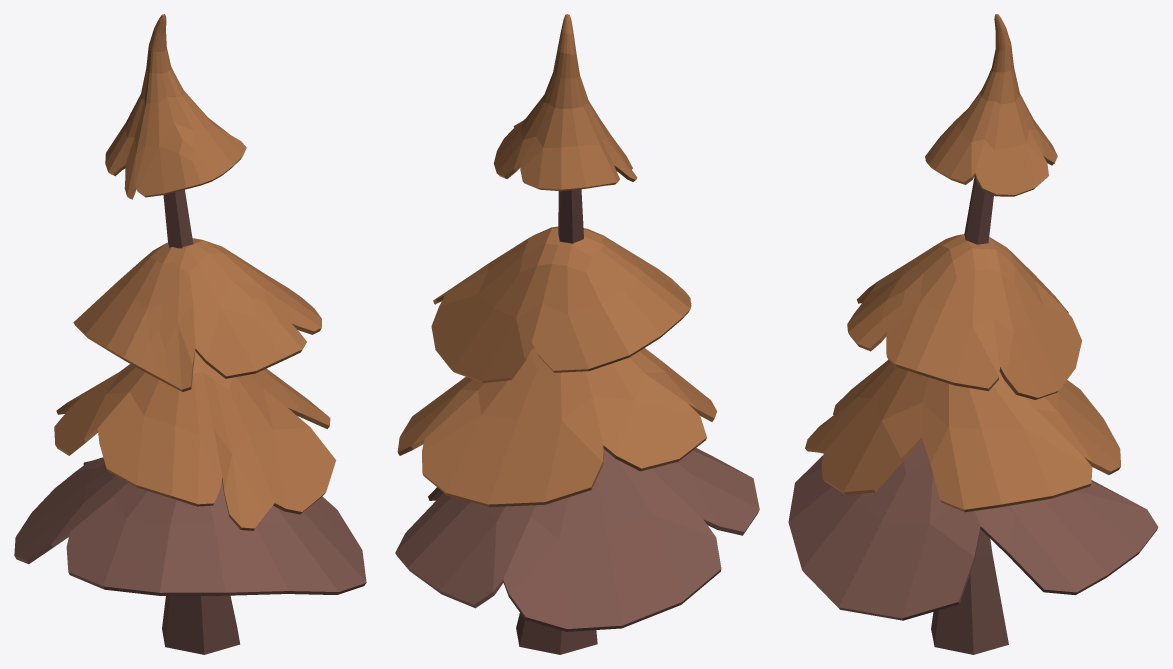
The model's file is PineTree_Autumn_2.gltf.
3 views of the same model, side by side, from view 1: azimuth 30°, elevation 25°; view 2: azimuth 150°, elevation 25°; view 3: azimuth 270°, elevation 25° (orthographic). The views are drawn at different scales.
Visible parts, largest first — view 1: PineTree_Autumn_2; view 2: PineTree_Autumn_2; view 3: PineTree_Autumn_2.
Boxes of the visible parts, x1,y1,x2,y2 form: PineTree_Autumn_2: (14,14,366,654); PineTree_Autumn_2: (395,14,759,654); PineTree_Autumn_2: (788,14,1158,654).
Bounding box in the file's own units: 1.8 × 3.56 × 1.96.
